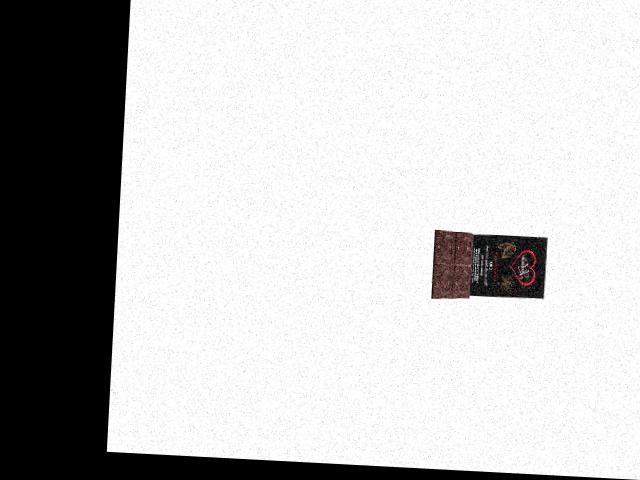chocolate: (426, 227, 548, 309)
